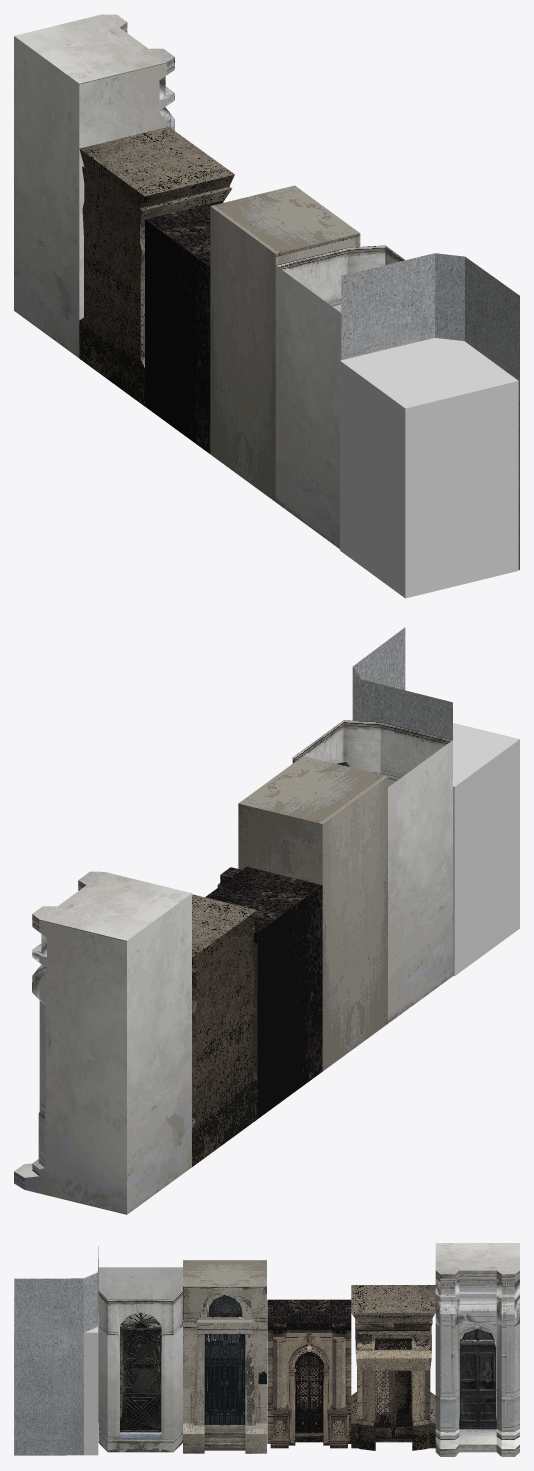
The model's file is bovedas.glb.
The picture shows the model from 3 angles, top to bottom: view 1: azimuth 30°, elevation 25°; view 2: azimuth 150°, elevation 25°; view 3: azimuth 270°, elevation 25°; orthographic projection. The views are drawn at different scales.
Parts seen in each view (by area): view 1: Cube5-colonly.002, bov1, bov4, bov2, bov5, Pared, bov3; view 2: bov1, bov4, bov5, bov3, bov2, Cube5-colonly.002, Pared; view 3: bov1, bov4, bov5, Pared, bov2, bov3, Cube5-colonly.002.
Part boxes in pixels (x1,y1,x2,y2): Cube5-colonly.002: (340, 338, 518, 598); bov1: (14, 14, 174, 357); bov4: (210, 185, 360, 501); bov2: (79, 127, 234, 406); bov5: (275, 245, 404, 548); Pared: (341, 253, 519, 569); bov3: (145, 201, 223, 453); bov1: (14, 871, 191, 1214); bov4: (238, 756, 387, 1071); bov5: (292, 720, 452, 1023); bov3: (205, 867, 322, 1118); bov2: (192, 894, 257, 1166); Cube5-colonly.002: (453, 723, 519, 976); Pared: (352, 627, 452, 739); bov1: (435, 1243, 519, 1456); bov4: (183, 1260, 266, 1453); bov5: (98, 1267, 182, 1452); Pared: (14, 1246, 98, 1455); bov2: (351, 1285, 435, 1450); bov3: (267, 1299, 351, 1448); Cube5-colonly.002: (14, 1297, 98, 1455).
Size of what is drawn, in the model's own units: 2.1 by 4.64 by 12.01.
Materials: 15 (14 with a texture image).
